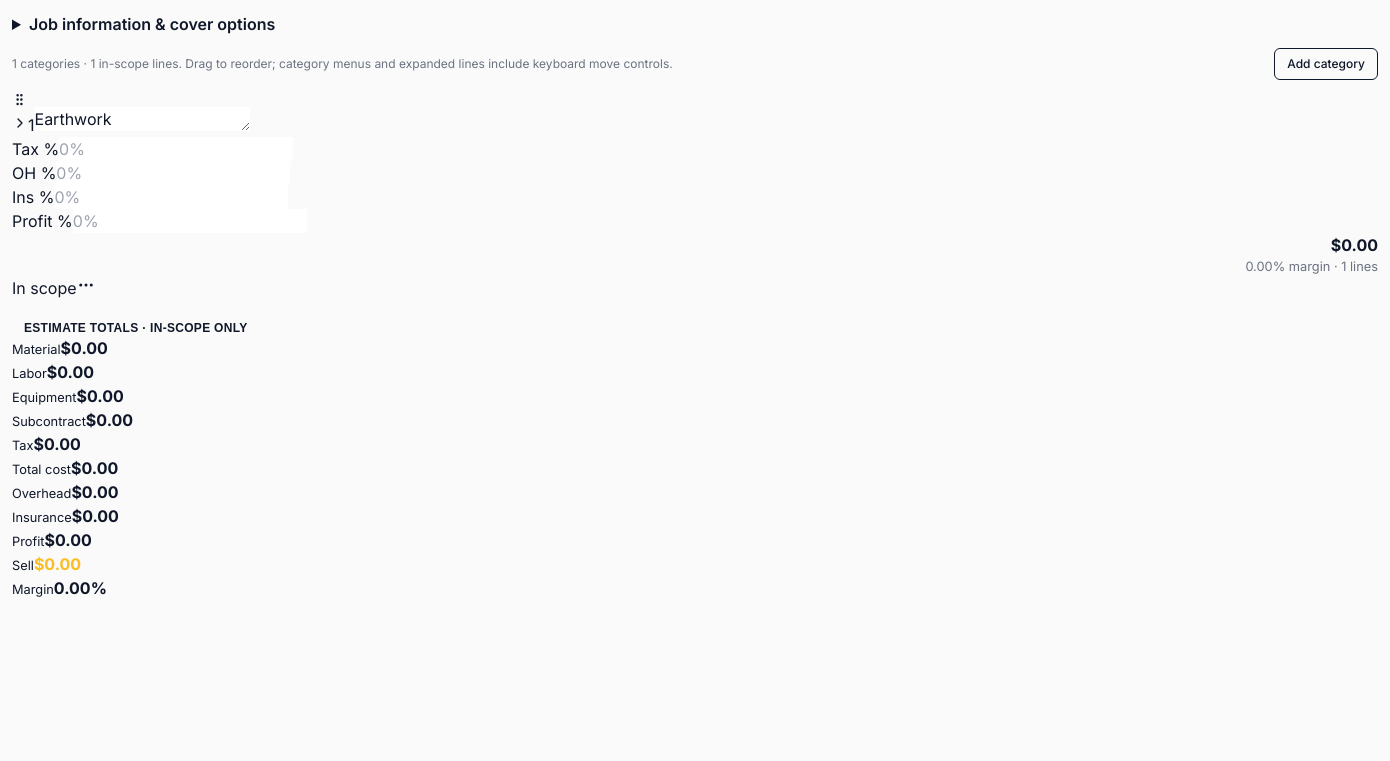
Test: Practical takeoff editing › opens saved categories and lines collapsed, and opens new lines
expect the text "Rough grade" is not shown: met
Click the button named "Expand category Earthwork" at coordinates (20, 123), box x1=12 y1=115 x2=28 y2=131
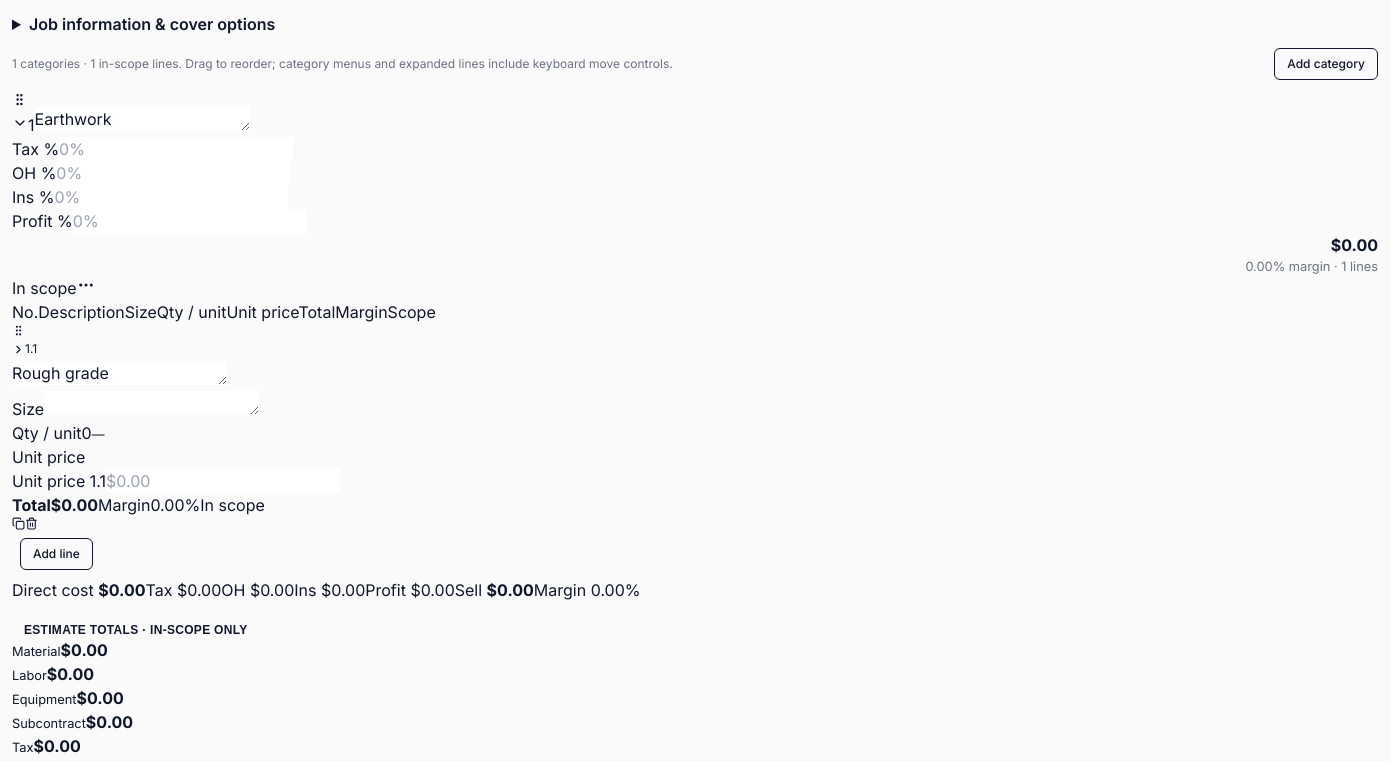
expect the text box named "Description 1.1" holds "Rough grade": met, box x1=12 y1=361 x2=227 y2=385
Click the button "Add line" at coordinates (56, 554), box x1=20 y1=538 x2=93 y2=570
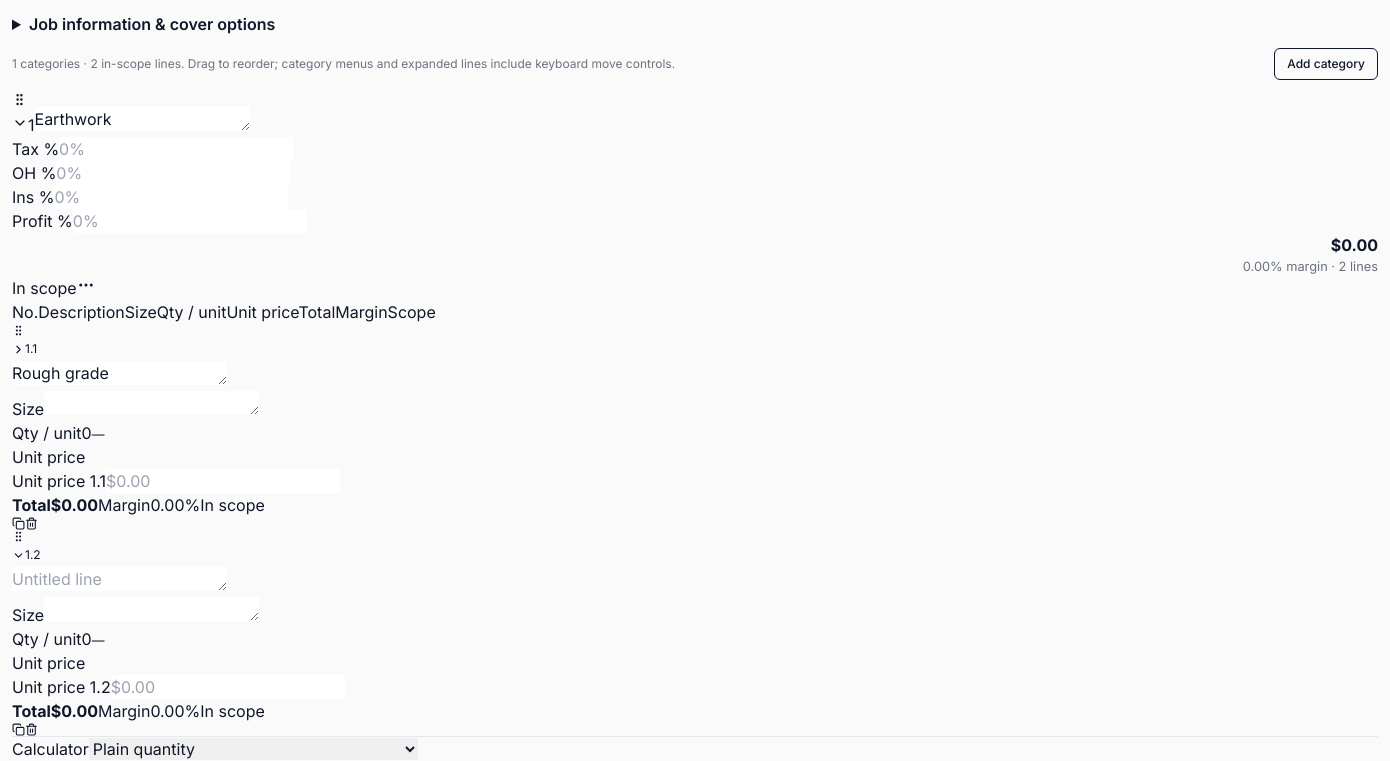
expect the button named "Collapse line 1.2" is shown: met, box x1=12 y1=543 x2=41 y2=567
